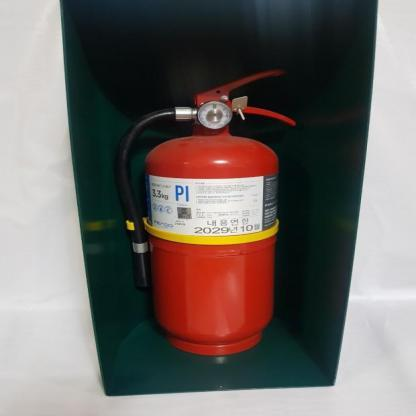Fire Extinguisher: (109, 63, 303, 367)
